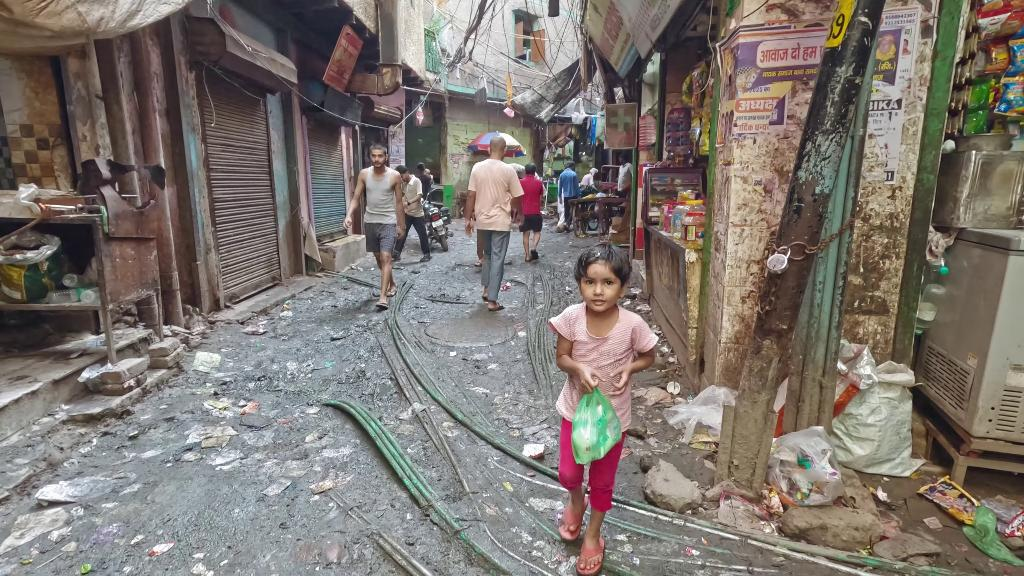garbage: (766, 423, 847, 511), (663, 380, 740, 449), (570, 389, 624, 466), (964, 503, 1023, 567), (920, 474, 985, 526), (48, 283, 93, 305), (193, 352, 222, 374), (145, 539, 175, 559), (520, 442, 546, 459)
